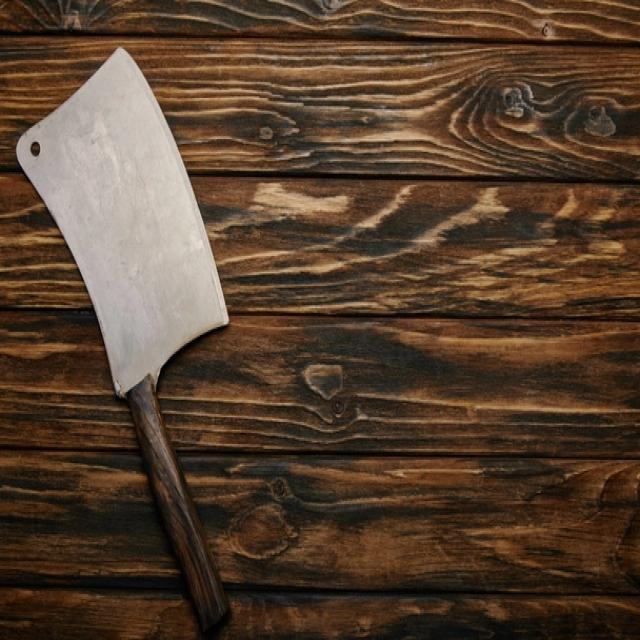cleaver: (18, 52, 234, 630)
